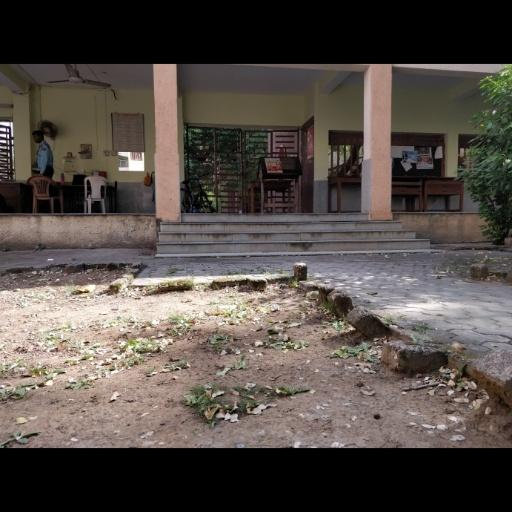stairs: (156, 213, 429, 256)
